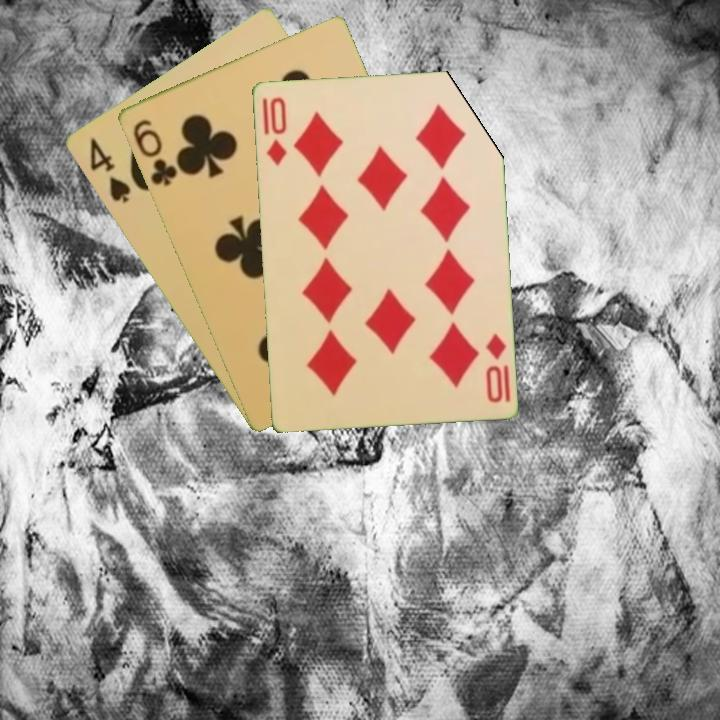10d: (481, 330, 513, 405), (263, 93, 289, 168)
4s: (85, 134, 133, 206)
6c: (129, 115, 180, 189)
